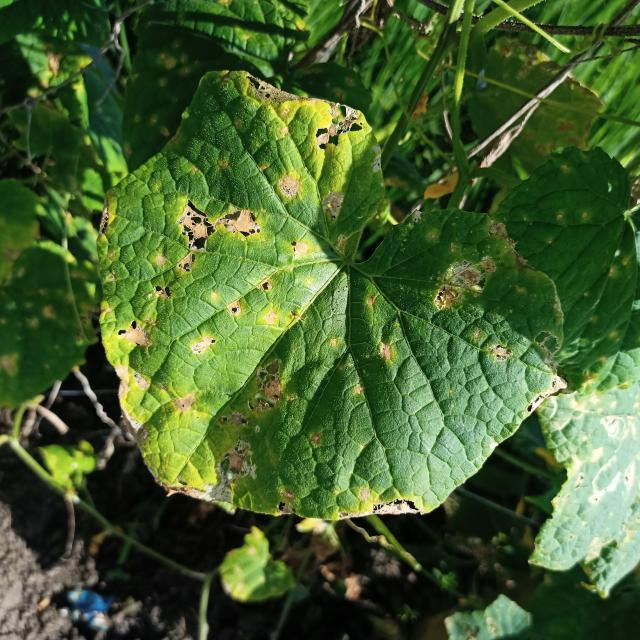disease_cucumber: (101, 68, 523, 513)
